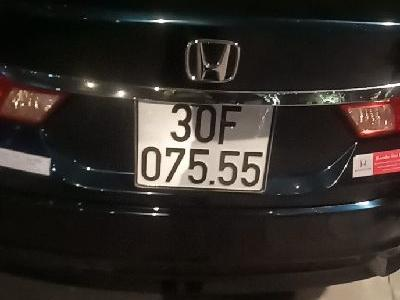number: (131, 94, 277, 195)
